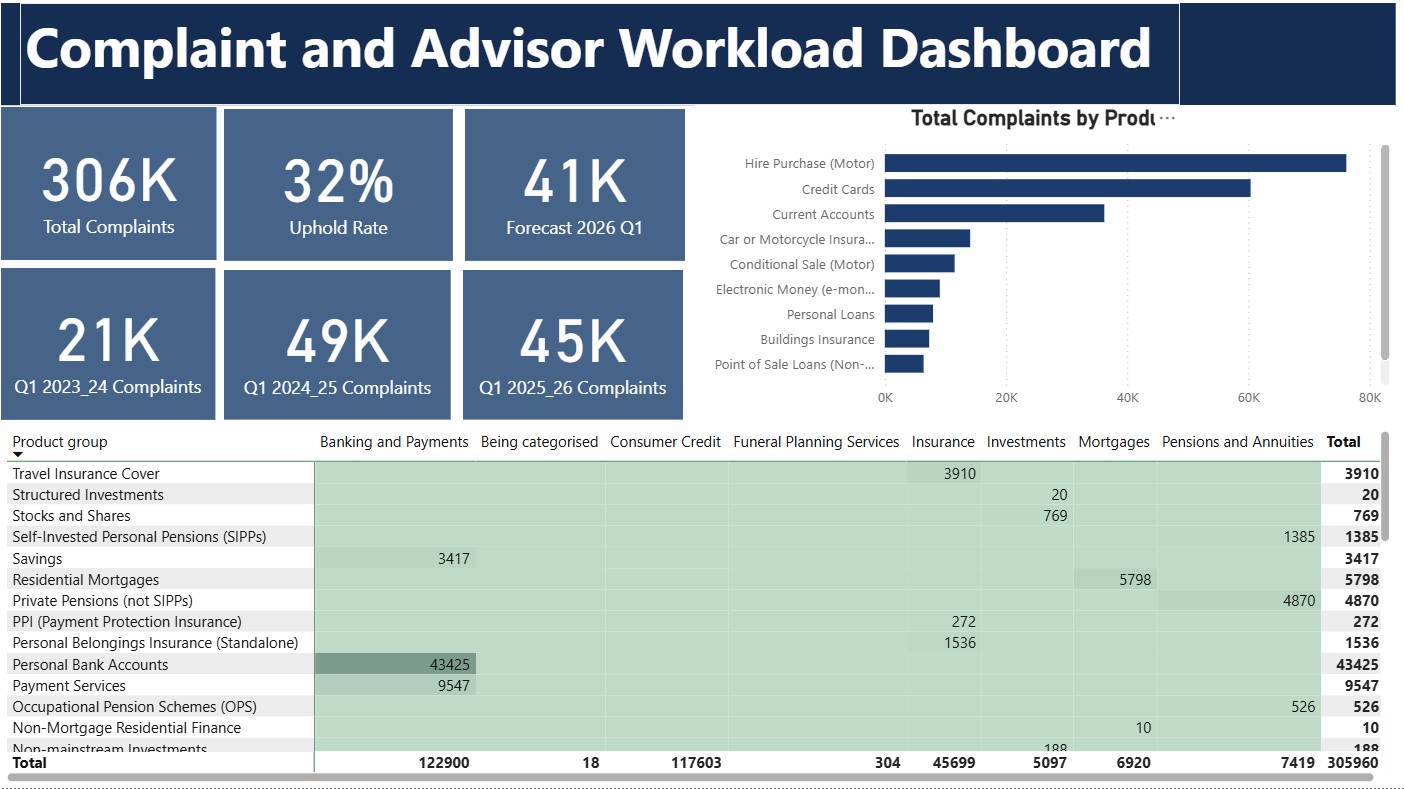

This screenshot's page, from the dashboard's own definition file:
{"tool":"powerbi","page":{"name":"Page 1","canvas":[1280,720],"ordinal":0},"visuals":[{"type":"shape","box":[18.6,16.9,1249.2,91.5],"z":0},{"type":"card","fields":{"Values":["Annual-complaints-data-2024-25 (2).Uphold Rate (Weighted, blanks as 0)"]},"box":[218.6,111.7,205.1,135.6],"z":1000},{"type":"card","fields":{"Values":["Annual-complaints-data-2024-25 (2).Total Complaints"]},"box":[18.6,110,193.2,137.3],"z":2000},{"type":"clusteredBarChart","fields":{"Category":["Dim_Product.Product"],"Y":["Annual-complaints-data-2024-25 (2).Total Complaints"]},"box":[640.7,108.5,627.1,279.7],"z":3000},{"type":"pivotTable","fields":{"Values":["Annual-complaints-data-2024-25 (2).Total Complaints"],"Rows":["Annual-complaints-data-2024-25 (2).Product group"],"Columns":["Annual-complaints-data-2024-25 (2).Sector"]},"box":[18.6,394.9,1249.2,325.4],"z":4000},{"type":"card","fields":{"Values":["Fact_Complaints_Q1.Q1 2023_24 Complaints"]},"box":[18.6,254.1,191.5,135.6],"z":5000},{"type":"card","fields":{"Values":["Fact_Complaints_Q1.Q1 2024_25 Complaints"]},"box":[218.6,255.8,203.4,133.9],"z":6000},{"type":"card","fields":{"Values":["Fact_Complaints_Q1.Q1 2025_26 Complaints"]},"box":[432.2,255.8,196.6,133.9],"z":7000},{"type":"card","fields":{"Values":["Fact_Complaints_Q1.Forecast 2026 Q1"]},"box":[433.9,111.7,196.6,135.6],"z":8000},{"type":"textbox","box":[35.6,16.9,1039,91.5],"z":9000}]}

Visuals, with their boxes in screenshot pixels (x1, y1, x2, y2), scaled from the page's 1280x720 canvas onto the 1404x789 screenshot:
shape: crop(20, 19, 1391, 119)
card - Annual-complaints-data-2024-25 (2).Uphold Rate (Weighted, blanks as 0): crop(240, 122, 465, 271)
card - Annual-complaints-data-2024-25 (2).Total Complaints: crop(20, 121, 232, 271)
clusteredBarChart - Dim_Product.Product x Annual-complaints-data-2024-25 (2).Total Complaints: crop(703, 119, 1391, 425)
pivotTable - Annual-complaints-data-2024-25 (2).Total Complaints x Annual-complaints-data-2024-25 (2).Product group: crop(20, 433, 1391, 788)
card - Fact_Complaints_Q1.Q1 2023_24 Complaints: crop(20, 278, 230, 427)
card - Fact_Complaints_Q1.Q1 2024_25 Complaints: crop(240, 280, 463, 427)
card - Fact_Complaints_Q1.Q1 2025_26 Complaints: crop(474, 280, 690, 427)
card - Fact_Complaints_Q1.Forecast 2026 Q1: crop(476, 122, 692, 271)
textbox: crop(39, 19, 1179, 119)
